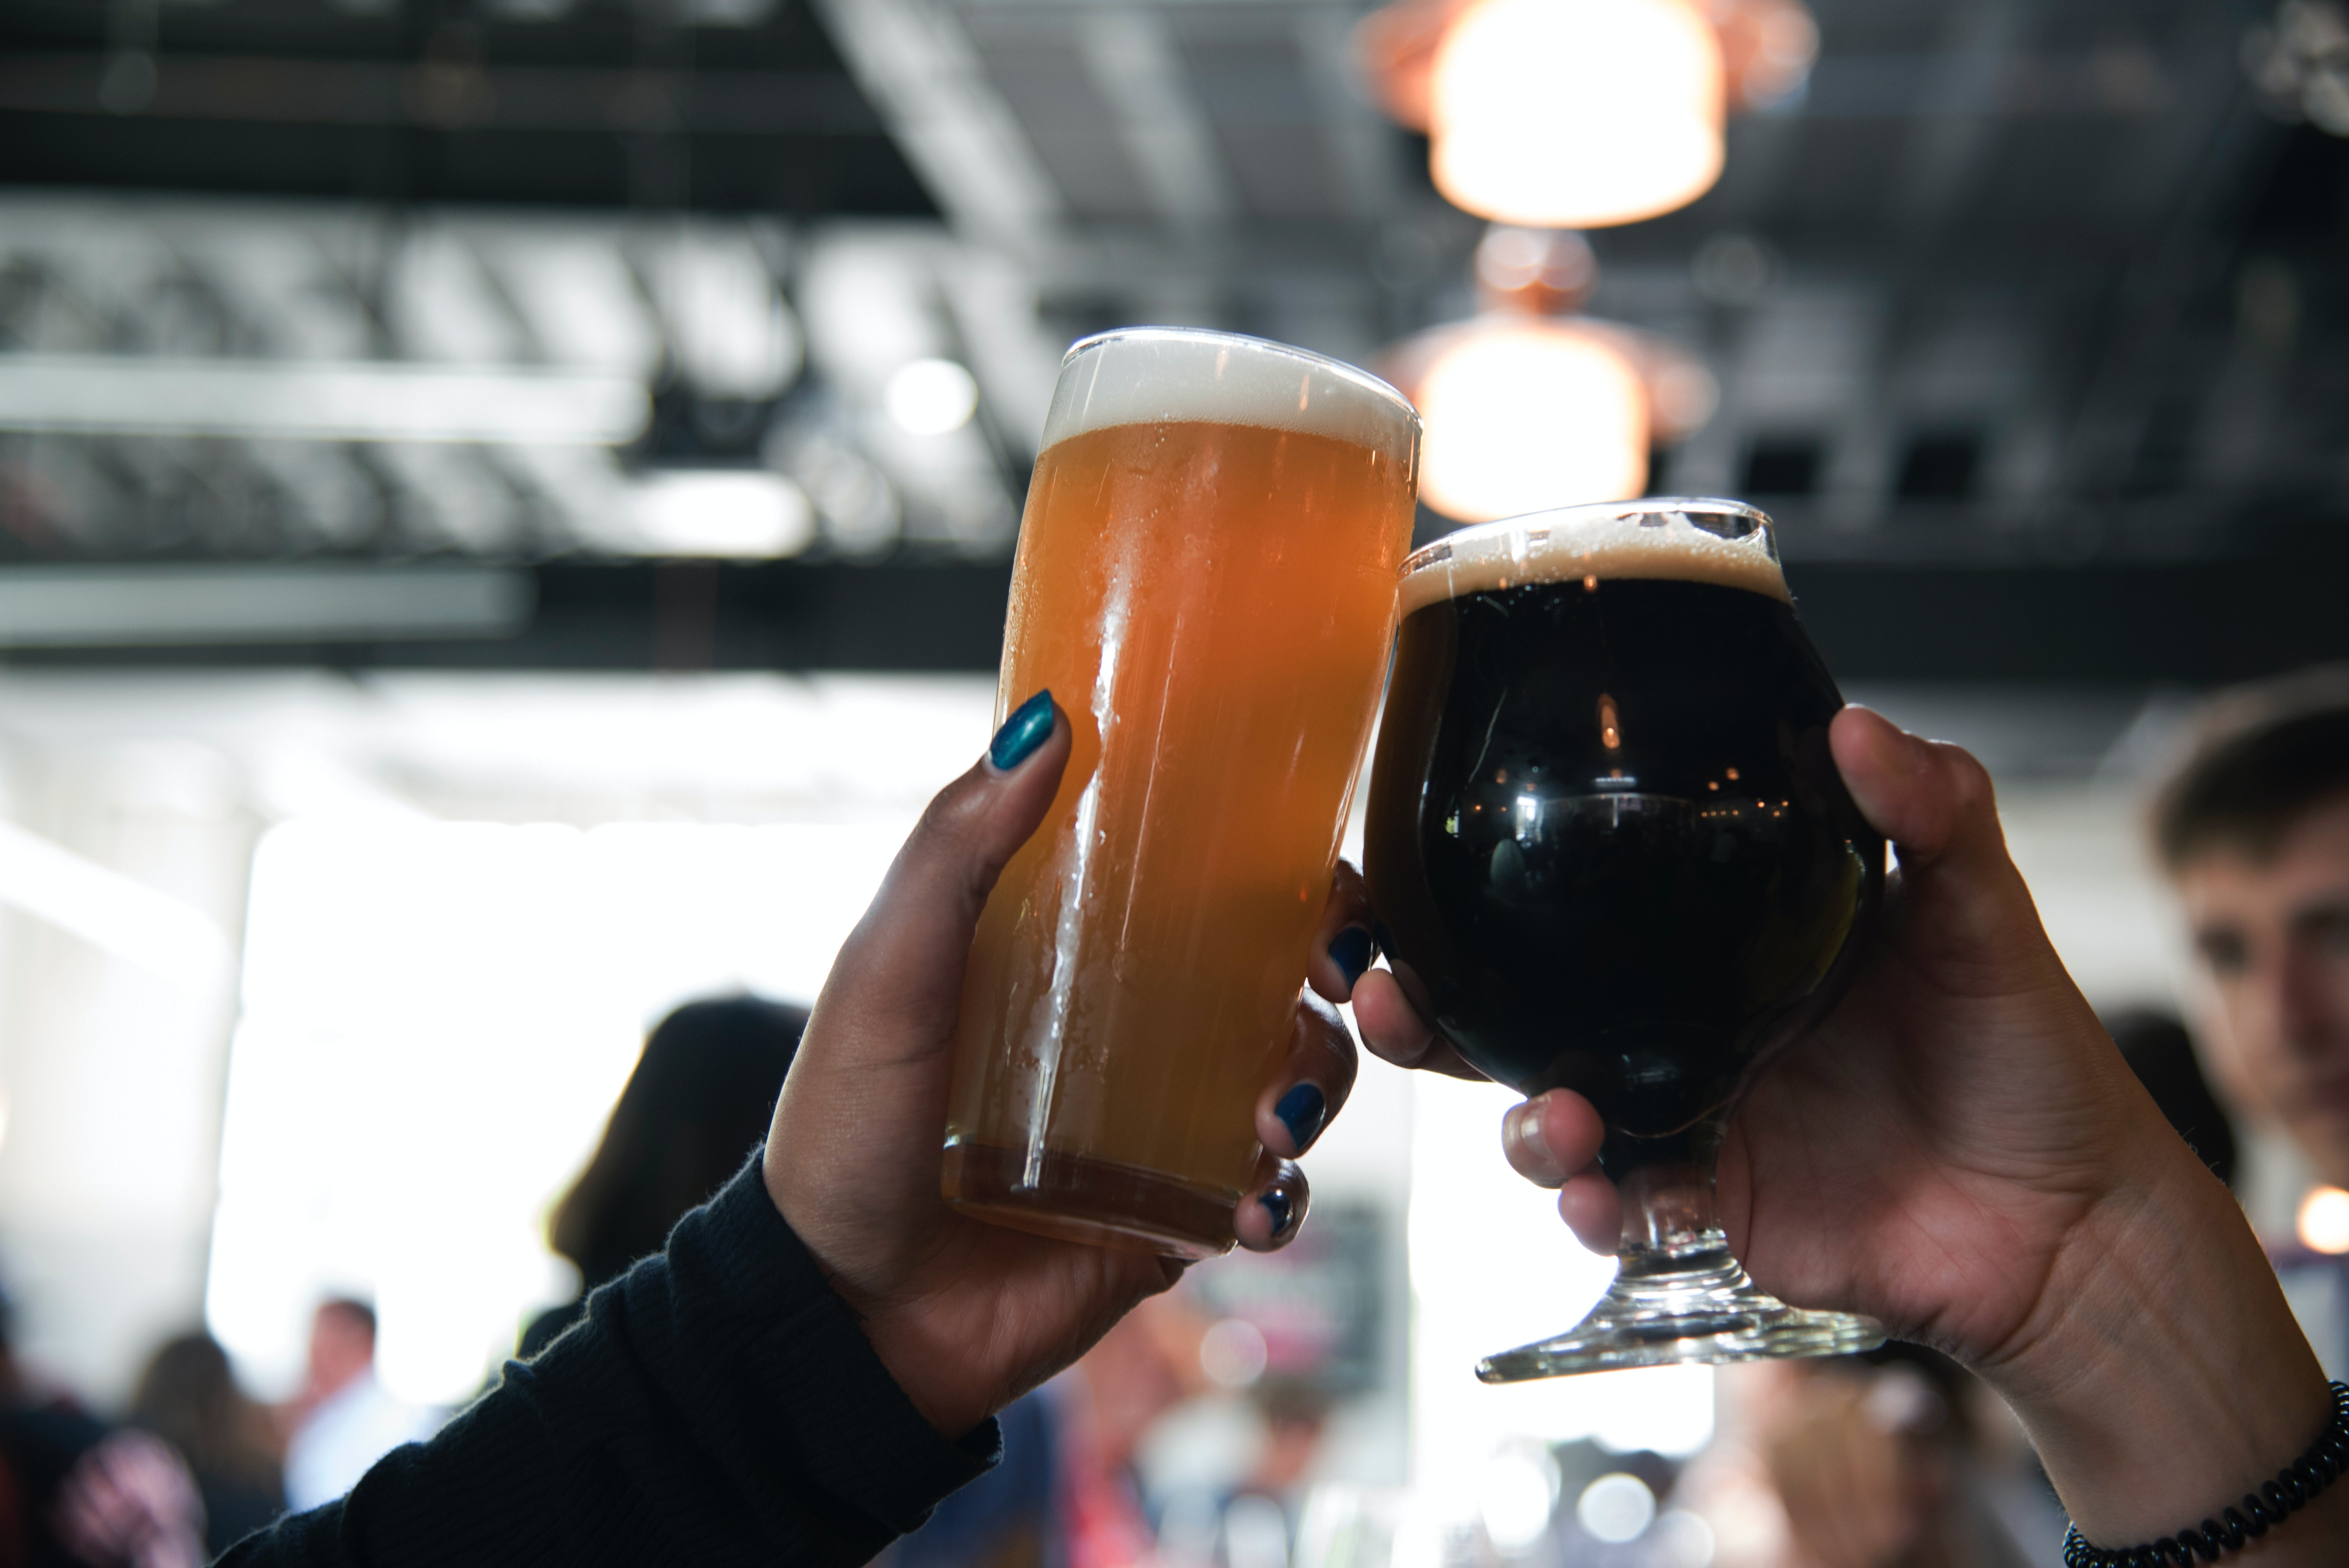alcohol: (1362, 502, 1890, 1388), (931, 318, 1425, 1262)
